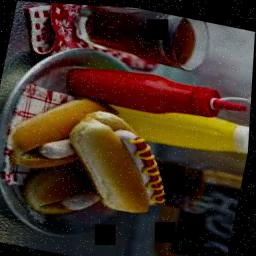hotdog: (70, 106, 185, 220)
